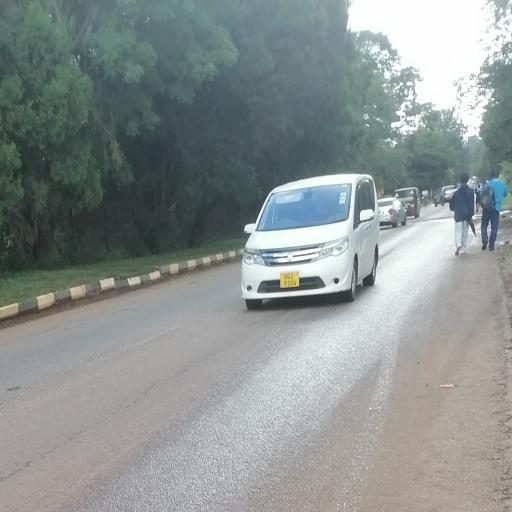number-plates: (280, 269, 300, 288)
